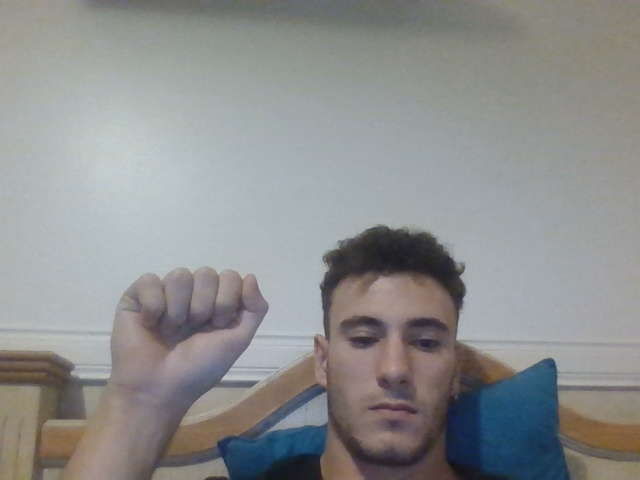Stop: (109, 269, 269, 391)
